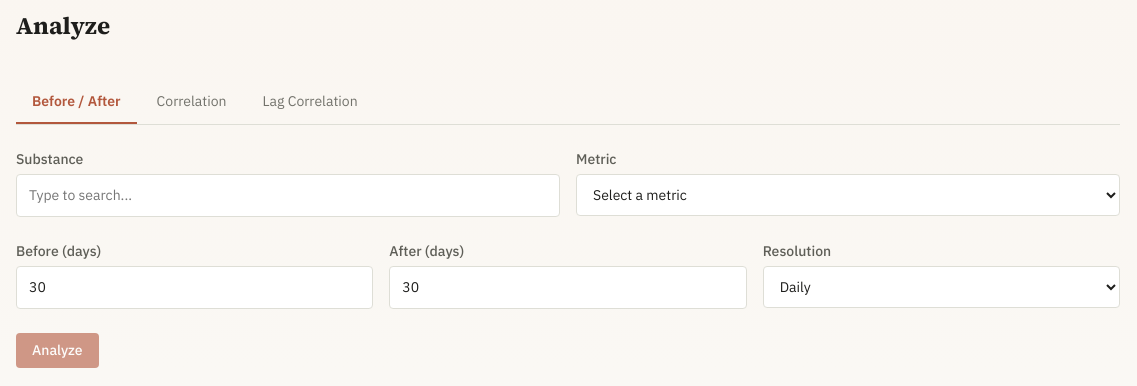
Analyze page › switches tabs when clicked
The width and height of the screenshot is (1137, 386).
Step 1. Click the tab "Correlation" → (192, 102), box [141,81,242,124]
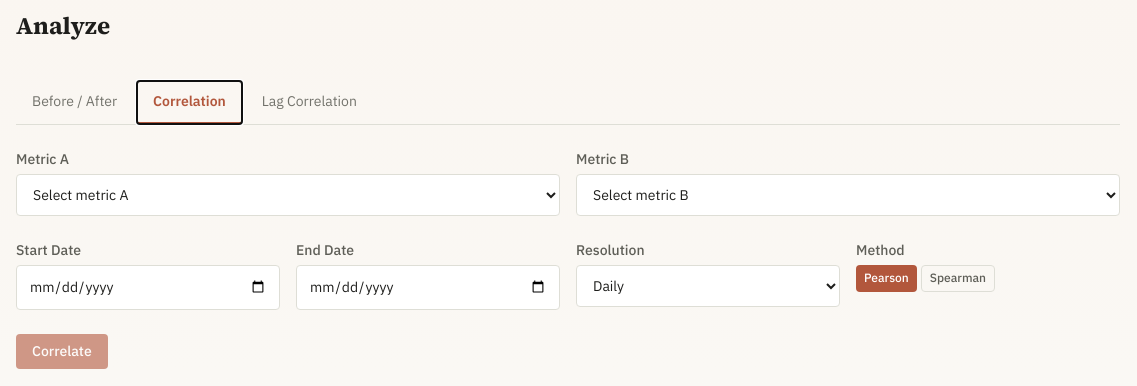
Expected: the dropdown labelled "Metric A" is shown, [16,174,560,216]
